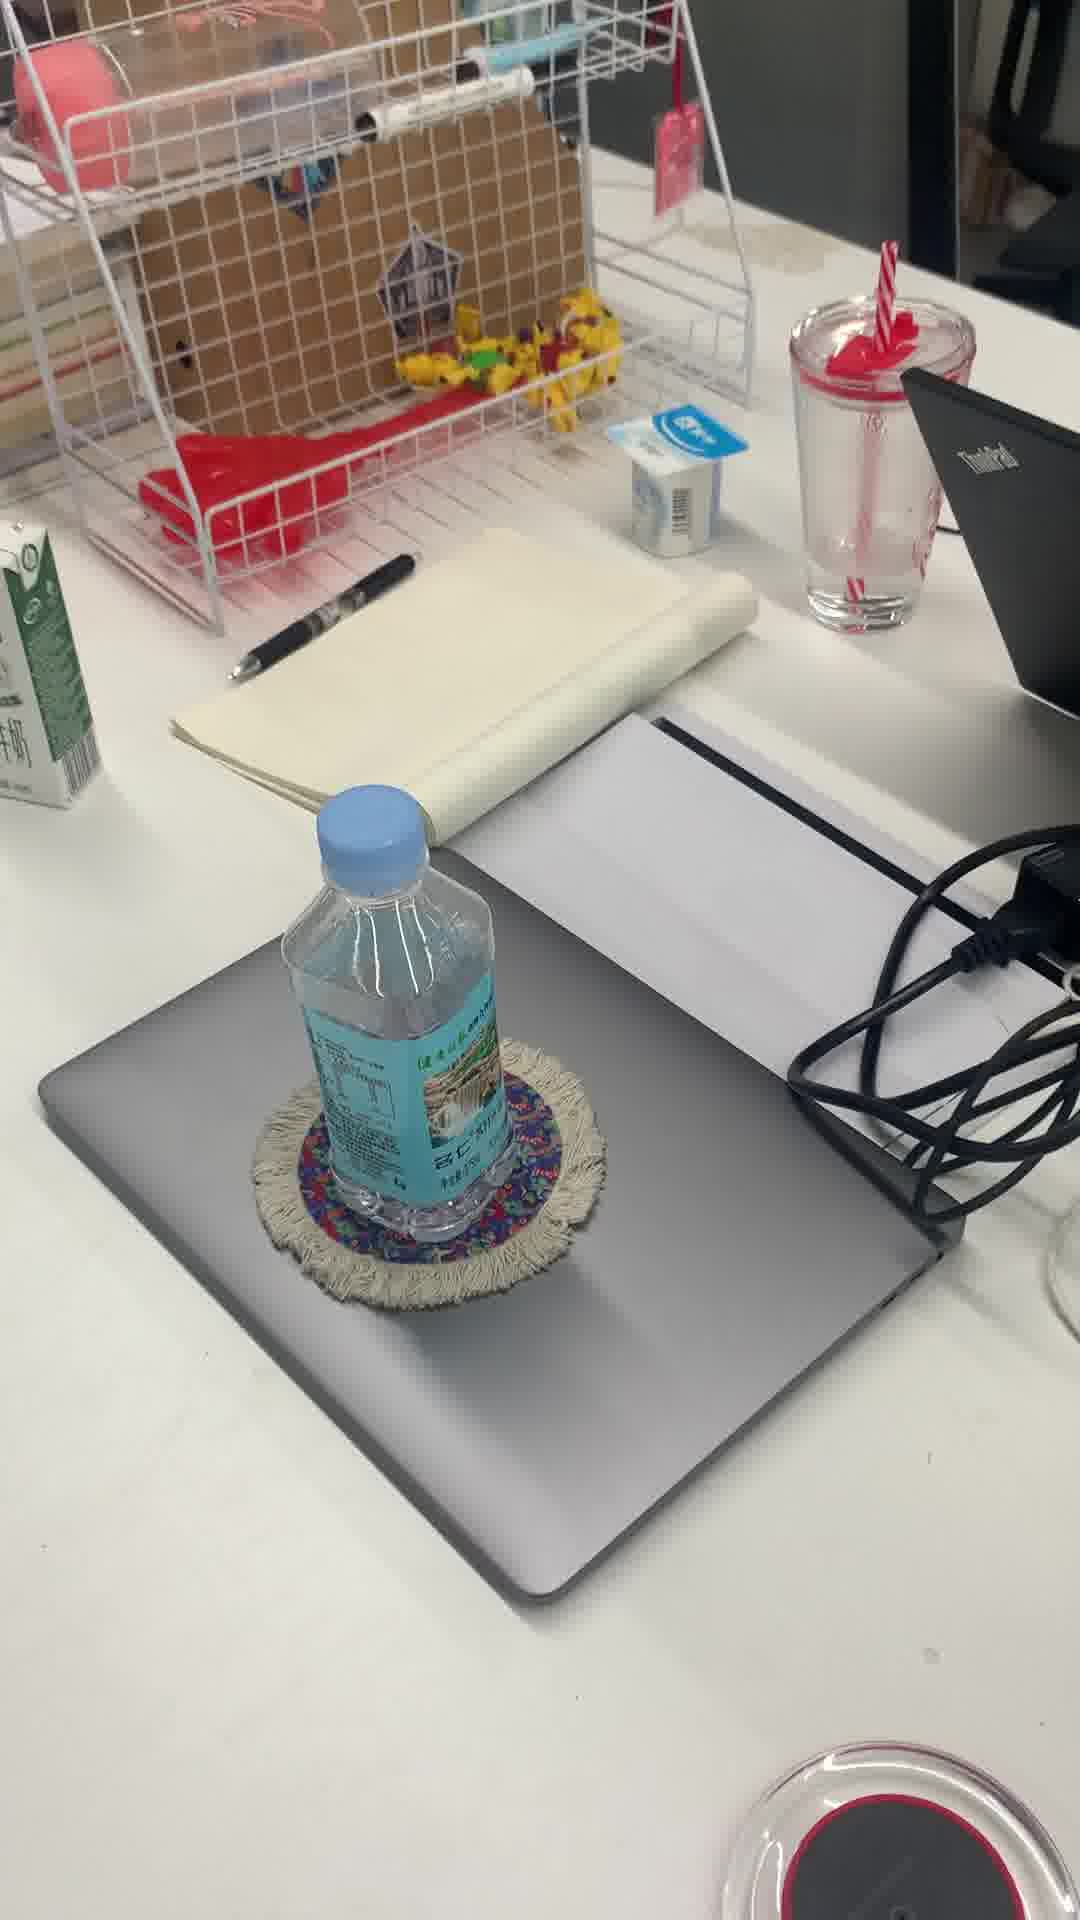水瓶: (274, 779, 531, 1255)
